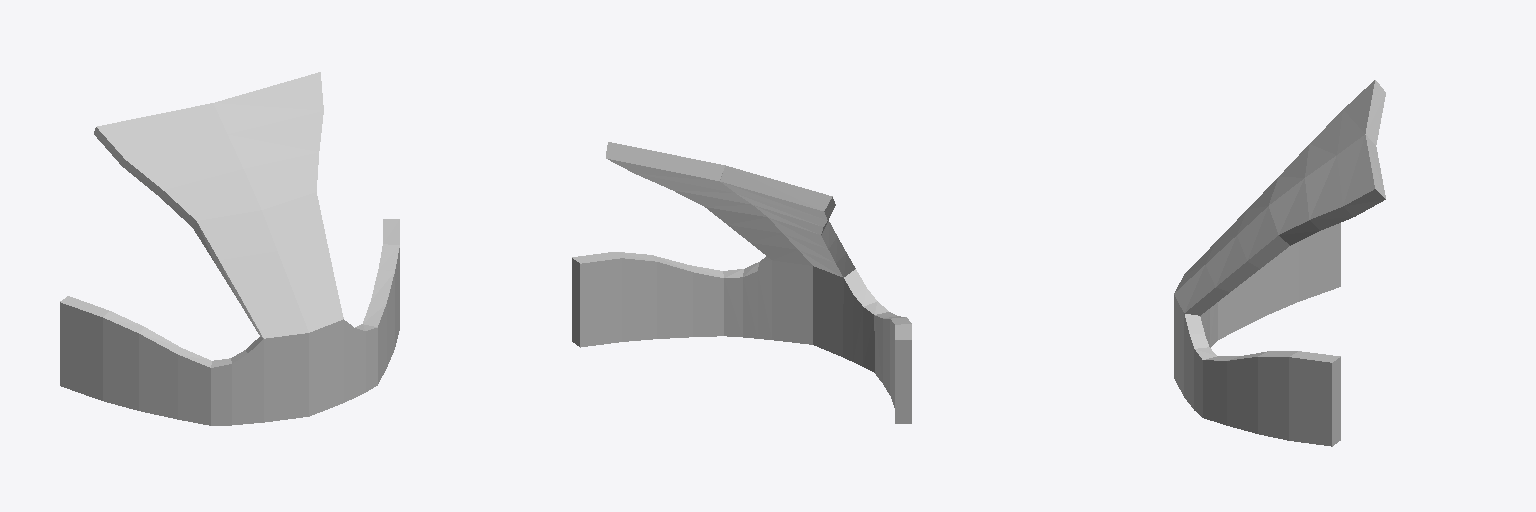
File: Hood3.obj
The picture shows the model from 3 angles: view 1: azimuth 30°, elevation 25°; view 2: azimuth 150°, elevation 25°; view 3: azimuth 270°, elevation 25°; orthographic projection.
Parts seen in each view (by area): view 1: Hood2_Cylinder.002; view 2: Hood2_Cylinder.002; view 3: Hood2_Cylinder.002.
Part boxes in pixels (bbox=[...]): Hood2_Cylinder.002: bbox=[60, 72, 399, 425]; Hood2_Cylinder.002: bbox=[572, 142, 911, 423]; Hood2_Cylinder.002: bbox=[1174, 80, 1385, 446].
Bounding box in the file's own units: 6.96 × 4.76 × 3.77.